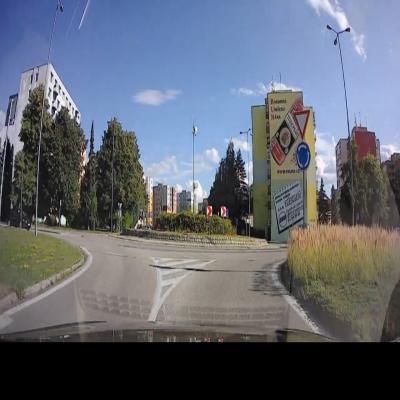clear-road: (62, 228, 286, 309)
